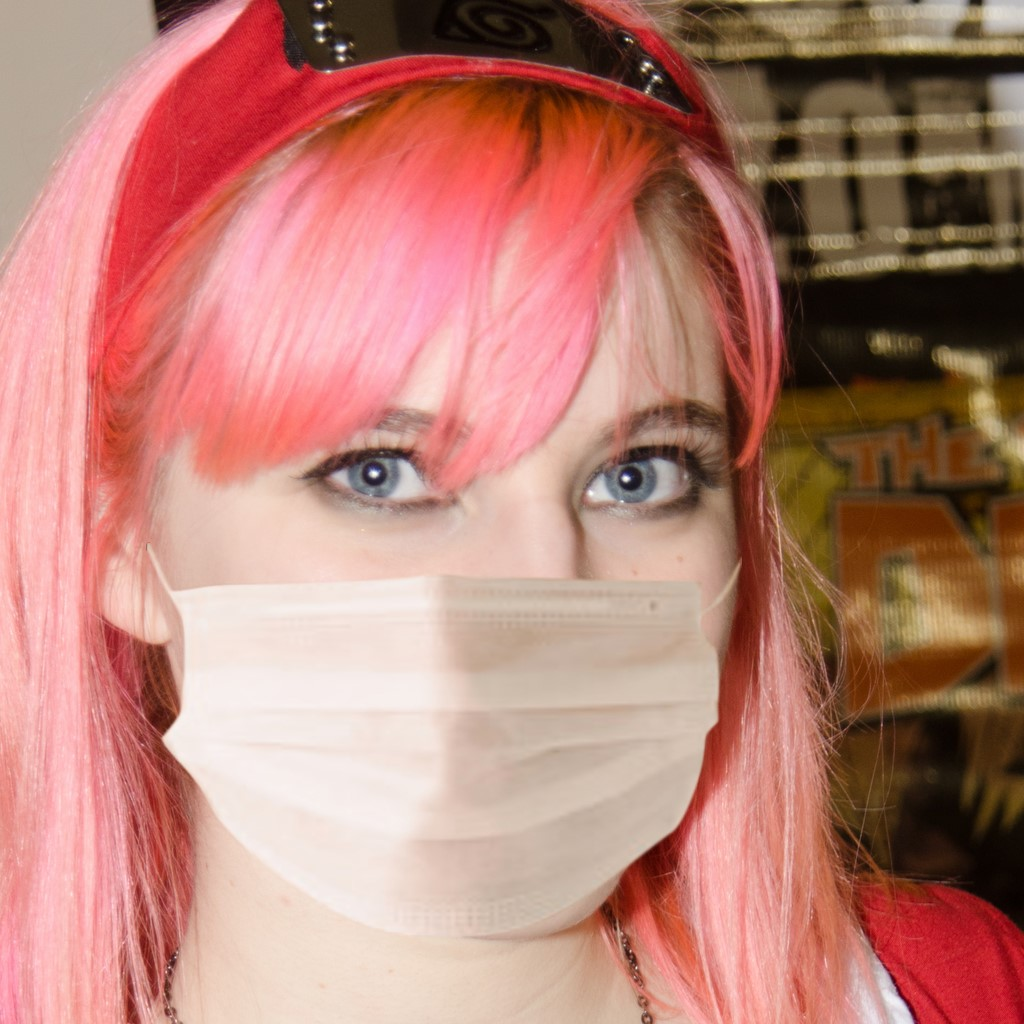con_mascara: (116, 154, 737, 951)
